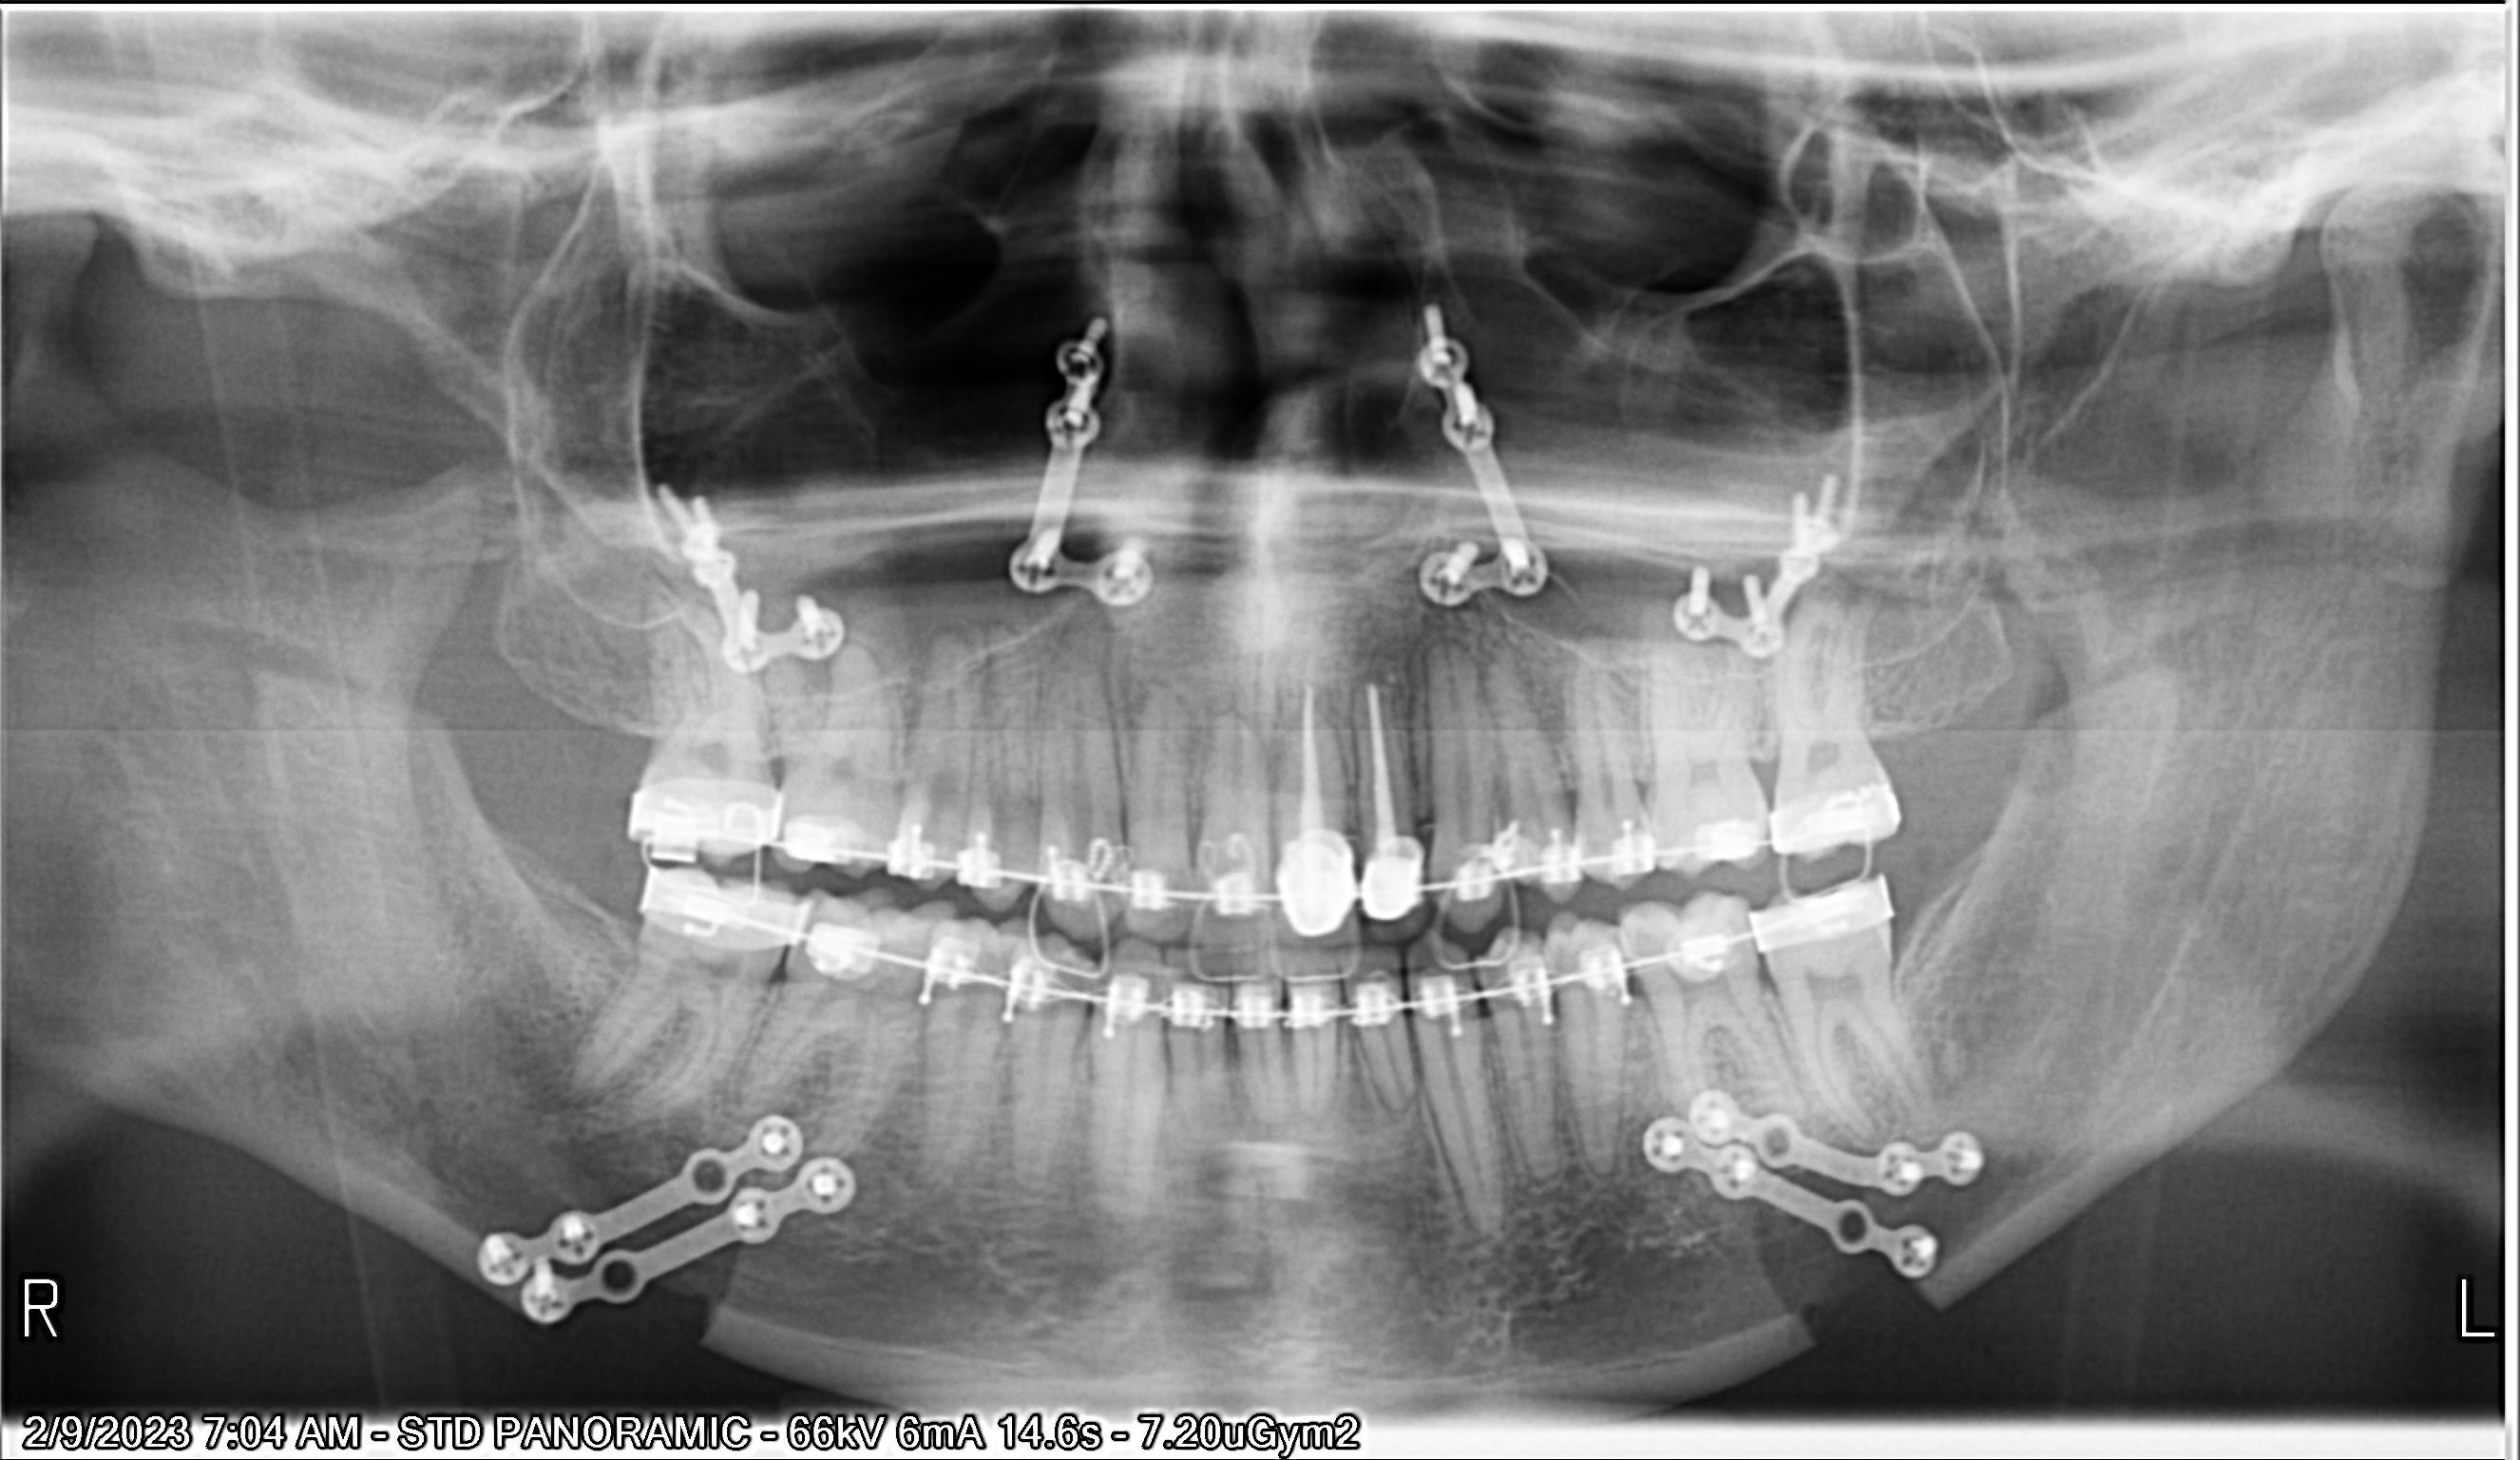END: (1355, 667, 1402, 859), (1290, 673, 1336, 843)
ORD: (1098, 954, 1469, 1053), (886, 831, 1188, 928), (620, 784, 894, 876), (1650, 779, 1907, 873), (1655, 883, 1898, 980), (1440, 810, 1657, 914), (622, 860, 816, 963), (901, 937, 1085, 1020), (1483, 937, 1636, 1020), (1172, 848, 1264, 940), (795, 918, 894, 991)
PRR: (1349, 801, 1443, 935), (1257, 826, 1362, 940)
SRD: (471, 1111, 860, 1342), (1620, 1085, 1990, 1283), (993, 301, 1174, 614), (1391, 289, 1561, 619), (634, 466, 860, 680), (1660, 462, 1839, 664)
